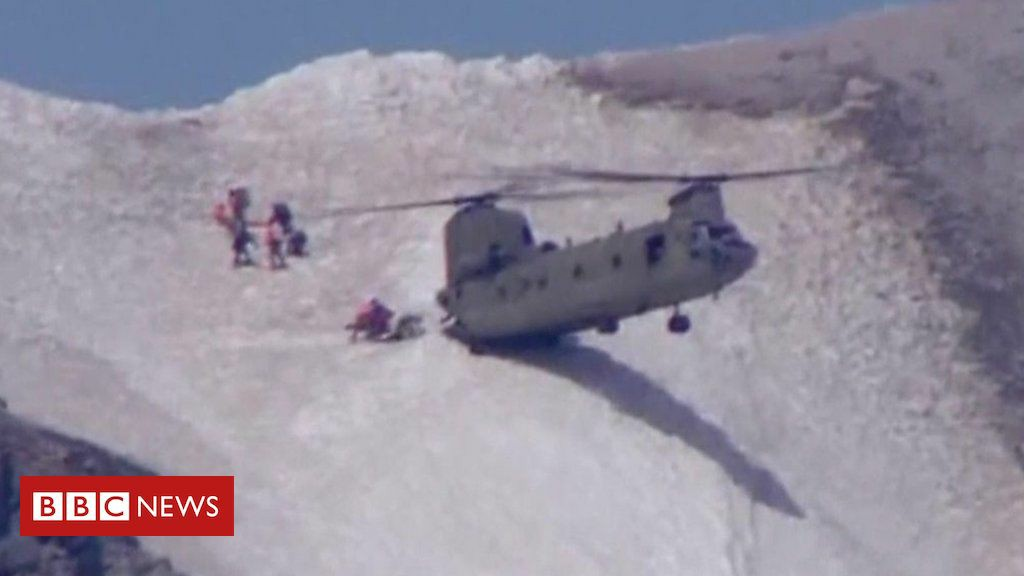chinook: (417, 151, 785, 356)
